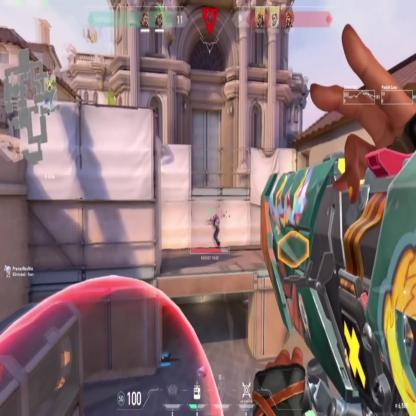enemy: (212, 213, 220, 249)
enemy_head: (214, 213, 218, 219)
